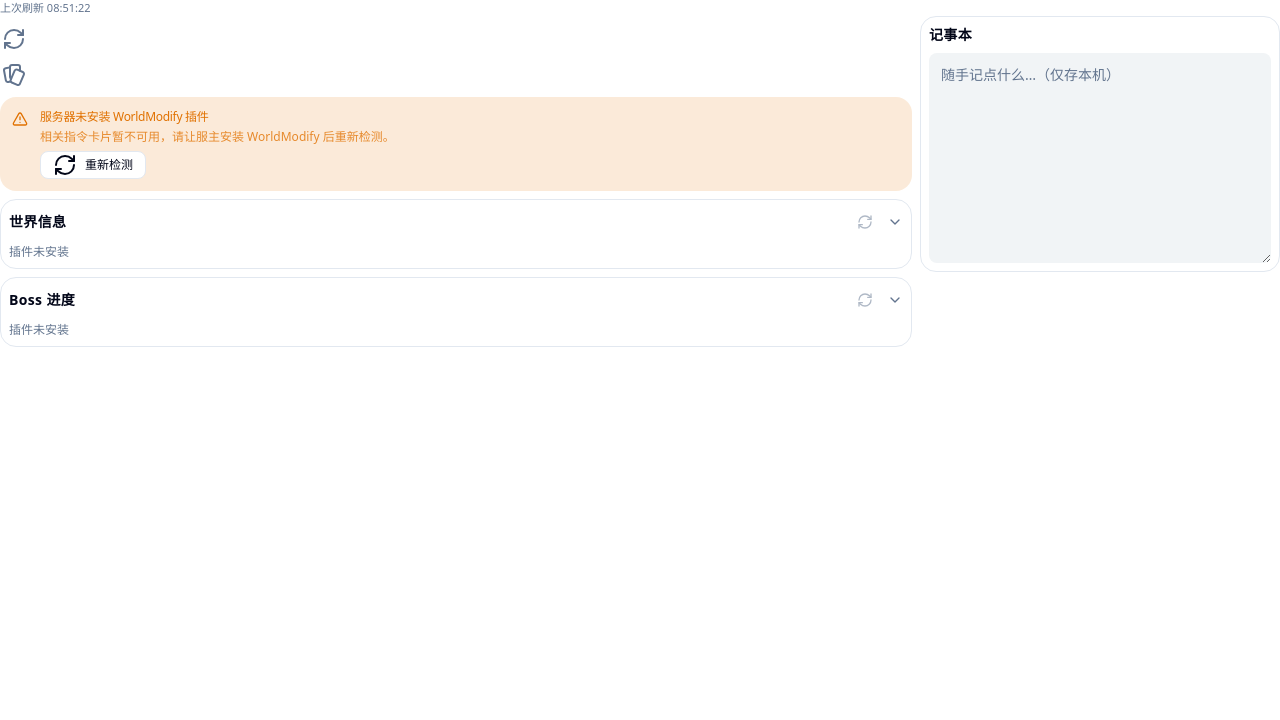
Test: CommandModulePage 插件探测 › 固定卡片「指令不存在」→ 提示插件未安装，卡片不再展示原始失败输出
expect the text "服务器未安装 WorldModify 插件" is shown: met, box 40,108 -> 208,124
expect the text "插件未安装" is shown 2 times: met, box 9,242 -> 69,260; 9,320 -> 69,338
# 「管理卡片」里仍能看到固定卡片，并标「缺少插件」
Click the button named "管理卡片".
click(14, 74)  # box 0,60 -> 28,88
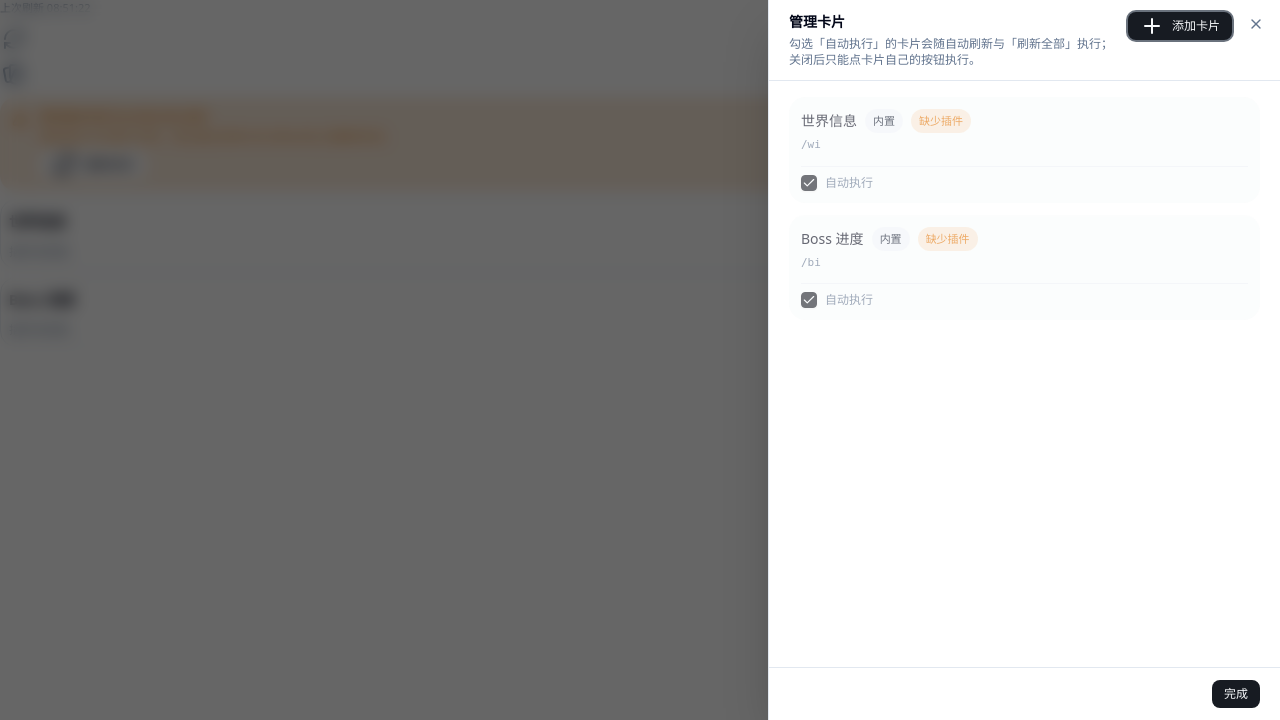
expect the text "缺少插件" is shown 2 times: met, box 911,109 -> 971,133; 918,226 -> 978,250
